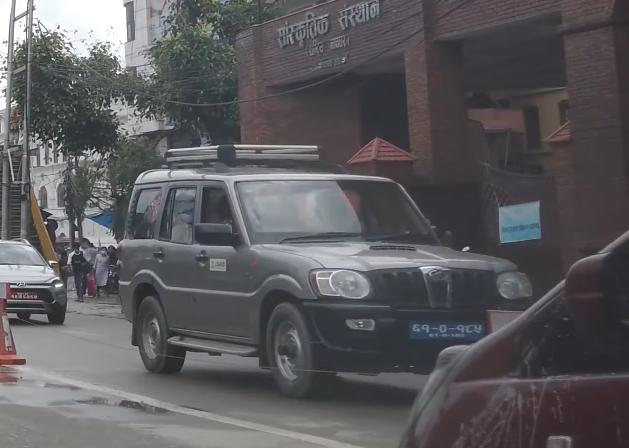SUV: (109, 139, 535, 403)
car: (0, 234, 71, 326)
